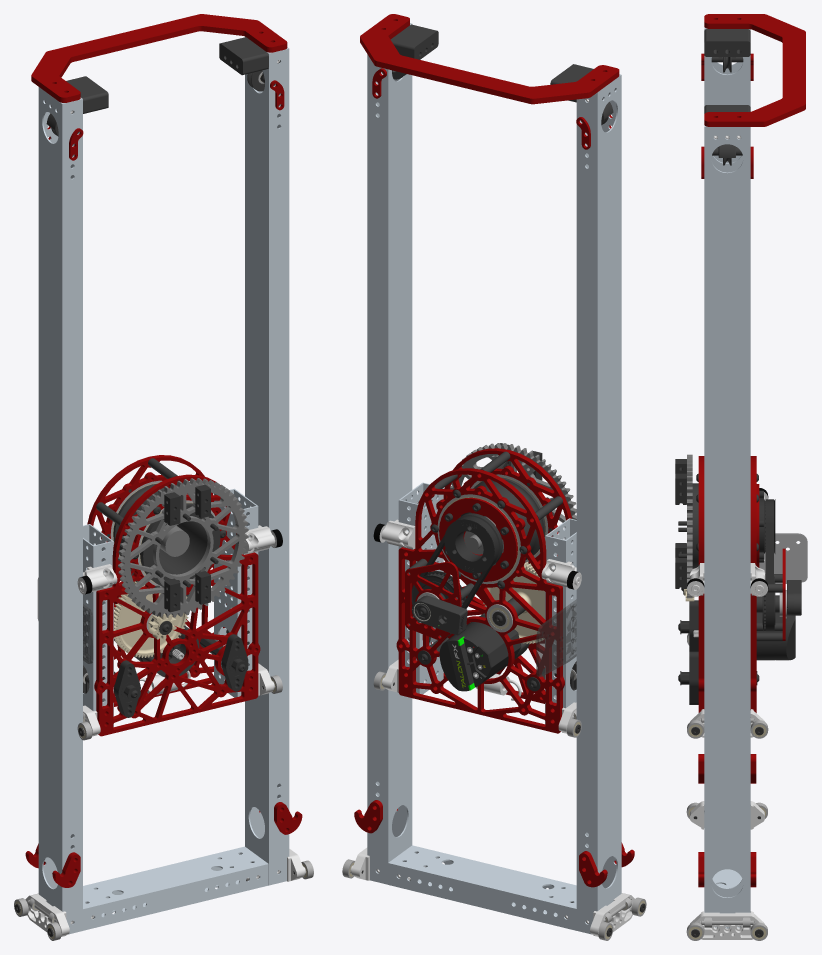
3 renders of one model, left to right at view 1: azimuth 30°, elevation 25°; view 2: azimuth 150°, elevation 25°; view 3: azimuth 270°, elevation 25°, orthographic. The views are drawn at different scales.
Visible parts, largest first — view 1: Tube 2"x1"x38.5" (×2), plate gear side, Tube 2"x1"x9", Spur gear (60 teeth), Tube 2"x1"x8.75" (×2), Part 27, plate encoder side, Ratchet Plate (1/2" Hex) (×2), 70t Pocketed Aluminum Spur Gear (20 DP, 1/2" Hex Bore), Part 12, Part 46, WCP-0323-001 Rev2 (×2) (+6 smaller); view 2: Tube 2"x1"x38.5" (×2), plate encoder side, Tube 2"x1"x9", Part 27, Tube 2"x1"x8.75" (×2), Kraken X60 Brushless Motor, plate gear side, Part 50, 36t Custom HTD 5mm Pulley (0.375" Wide, 1/2" Hex Bore w/ TTB, Part 22, Part 28, Spur gear (60 teeth) (+9 smaller); view 3: Tube 2"x1"x38.5" (×2), Part 27, WCP-0897-001 Rev1 (×2), plate encoder side, plate gear side, Part 50, Kraken X60 Brushless Motor, Part 45, 70T 5M 9mm Wide Belt, Ratchet Plate (1/2" Hex) (×2), Spur gear (60 teeth), Nut Strip (1/2" Square ,1.25" , #10-32 Tapped, Alternating . (×2) (+6 smaller).
Part boxes in pixels (bbox=[...]): Tube 2"x1"x38.5" (×2): bbox=[38, 36, 289, 934]; plate gear side: bbox=[94, 474, 260, 736]; Tube 2"x1"x9": bbox=[83, 846, 268, 930]; Spur gear (60 teeth): bbox=[118, 478, 248, 617]; Tube 2"x1"x8.75" (×2): bbox=[83, 488, 258, 727]; Part 27: bbox=[31, 14, 287, 102]; plate encoder side: bbox=[87, 455, 226, 706]; Ratchet Plate (1/2" Hex) (×2): bbox=[114, 634, 248, 717]; 70t Pocketed Aluminum Spur Gear (20 DP, 1/2" Hex Bore): bbox=[114, 581, 188, 657]; Part 12: bbox=[113, 483, 204, 572]; Part 46: bbox=[219, 37, 268, 75]; WCP-0323-001 Rev2 (×2): bbox=[84, 525, 274, 592]; Tube 2"x1"x38.5" (×2): bbox=[367, 23, 621, 934]; plate encoder side: bbox=[396, 468, 564, 733]; Tube 2"x1"x9": bbox=[388, 845, 576, 930]; Part 27: bbox=[360, 14, 619, 104]; Tube 2"x1"x8.75" (×2): bbox=[398, 482, 576, 724]; Kraken X60 Brushless Motor: bbox=[439, 614, 521, 691]; plate gear side: bbox=[431, 448, 571, 703]; Part 50: bbox=[536, 599, 576, 676]; 36t Custom HTD 5mm Pulley (0.375" Wide, 1/2" Hex Bore w/ TTB: bbox=[444, 513, 502, 573]; Part 22: bbox=[439, 497, 517, 581]; Part 28: bbox=[405, 561, 461, 640]; Spur gear (60 teeth): bbox=[450, 443, 576, 531]; Tube 2"x1"x38.5" (×2): bbox=[704, 27, 750, 928]; Part 27: bbox=[704, 14, 805, 126]; WCP-0897-001 Rev1 (×2): bbox=[689, 801, 764, 939]; plate encoder side: bbox=[750, 456, 756, 712]; plate gear side: bbox=[698, 456, 704, 712]; Part 50: bbox=[759, 533, 807, 583]; Kraken X60 Brushless Motor: bbox=[693, 612, 795, 660]; Part 45: bbox=[704, 29, 750, 56]; 70T 5M 9mm Wide Belt: bbox=[765, 499, 773, 631]; Ratchet Plate (1/2" Hex) (×2): bbox=[689, 600, 698, 704]; Spur gear (60 teeth): bbox=[687, 454, 692, 598]; Nut Strip (1/2" Square ,1.25" , #10-32 Tapped, Alternating . (×2): bbox=[675, 473, 686, 588].
Size of the model in its own units: 0.321 by 0.9843 by 0.1448.
